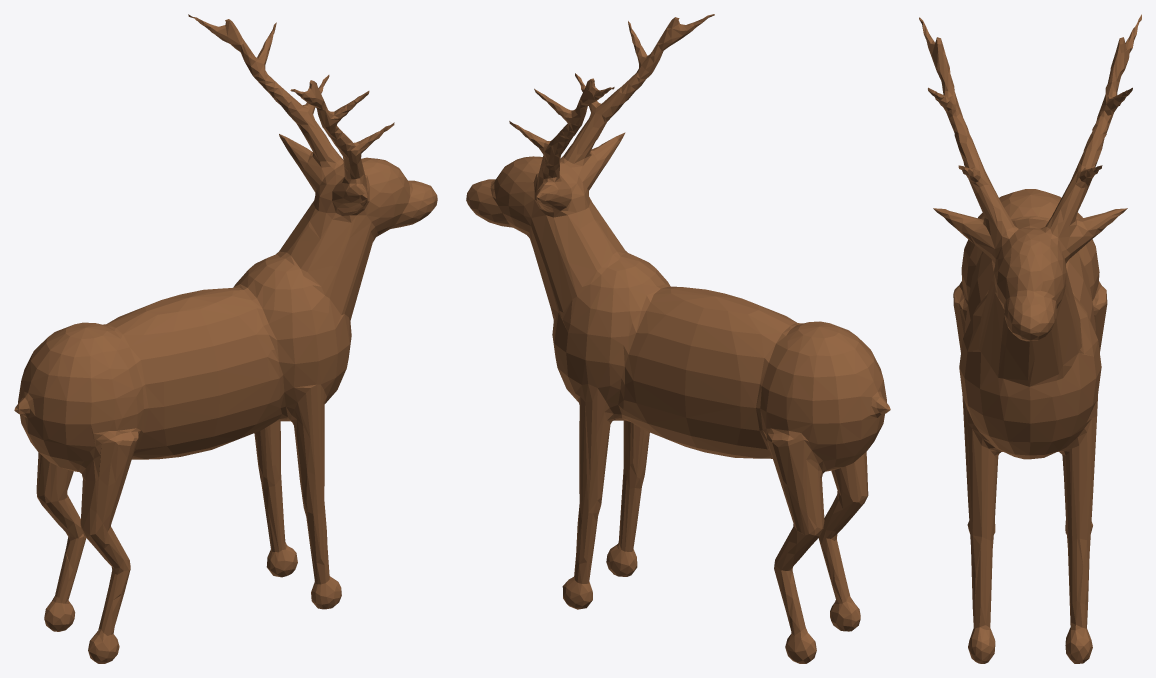
File: NEW_RECOVERY_029_LOD1.fbx
The picture shows the model from 3 angles, left to right: view 1: azimuth 30°, elevation 25°; view 2: azimuth 150°, elevation 25°; view 3: azimuth 270°, elevation 25°; orthographic projection. The views are drawn at different scales.
Parts seen in each view (by area): view 1: Deer_single_solid; view 2: Deer_single_solid; view 3: Deer_single_solid.
Part boxes in pixels (x1=…): Deer_single_solid: x1=14, y1=14, x2=437, y2=663; Deer_single_solid: x1=466, y1=14, x2=890, y2=663; Deer_single_solid: x1=919, y1=14, x2=1141, y2=663.
Size of the model in its own units: 276 by 115 by 349.
